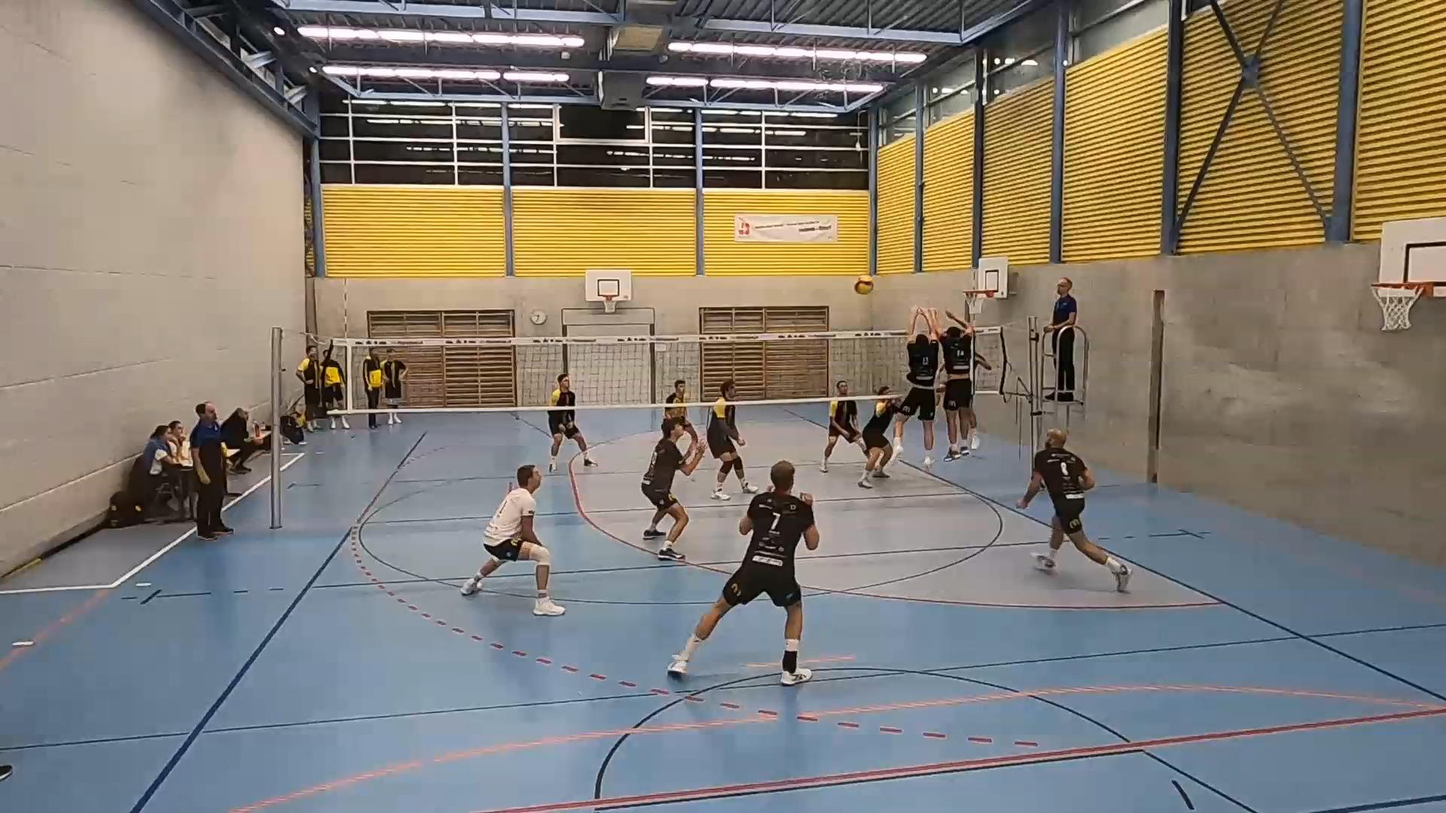Attack: (971, 320, 997, 443)
Block: (887, 308, 943, 475), (930, 311, 985, 463)
Player: (668, 461, 819, 685), (1017, 428, 1130, 592), (460, 464, 564, 615), (642, 417, 702, 561), (706, 379, 758, 500), (548, 373, 596, 472), (858, 385, 898, 488), (819, 380, 863, 472), (664, 406, 698, 446)
ball: (855, 278, 877, 292)
